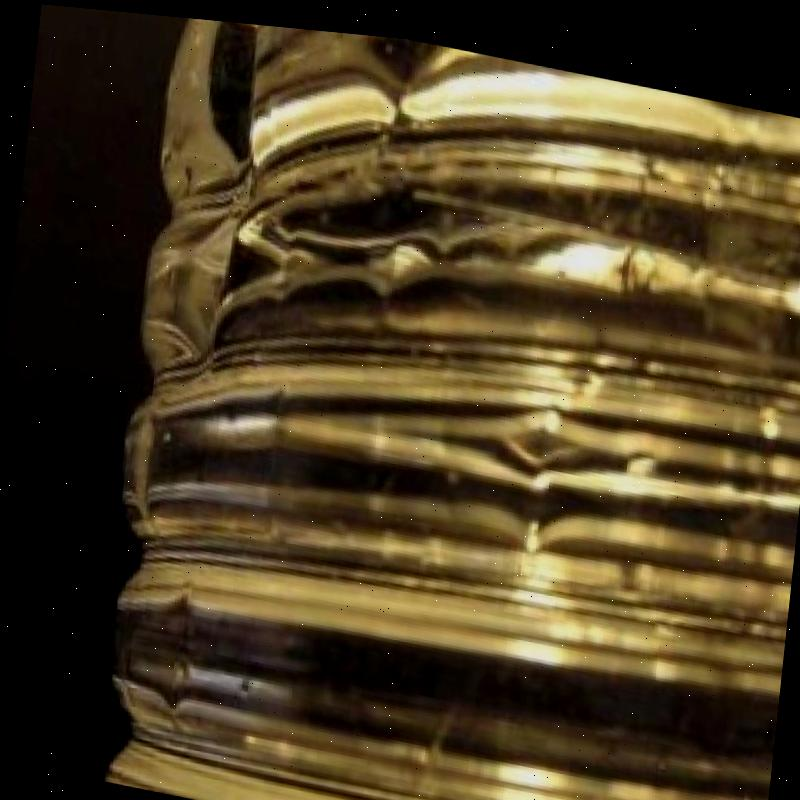botella: (87, 7, 800, 800)
